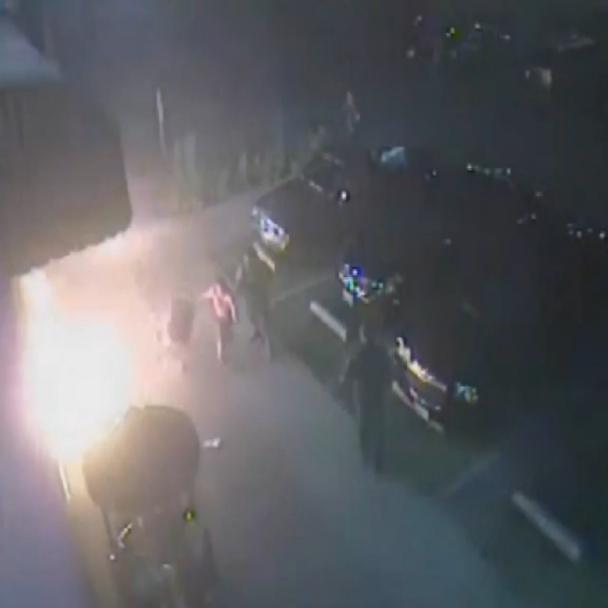Fire: (0, 130, 181, 532)
